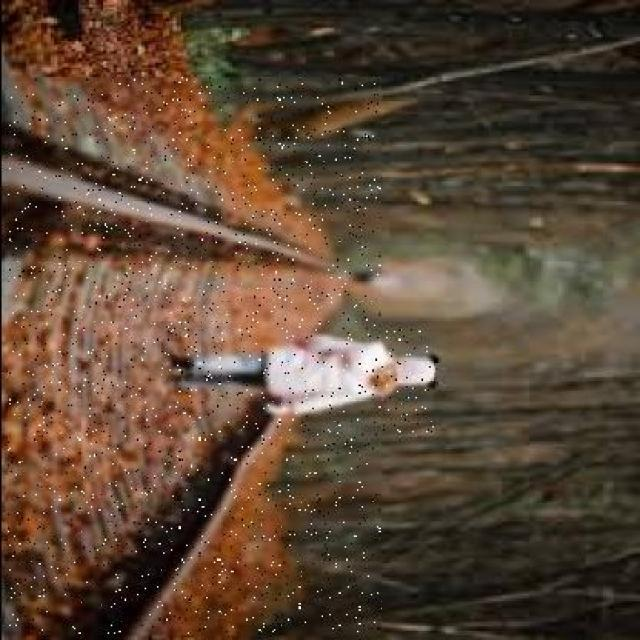danger: (164, 330, 432, 435)
rail: (6, 78, 379, 634)
